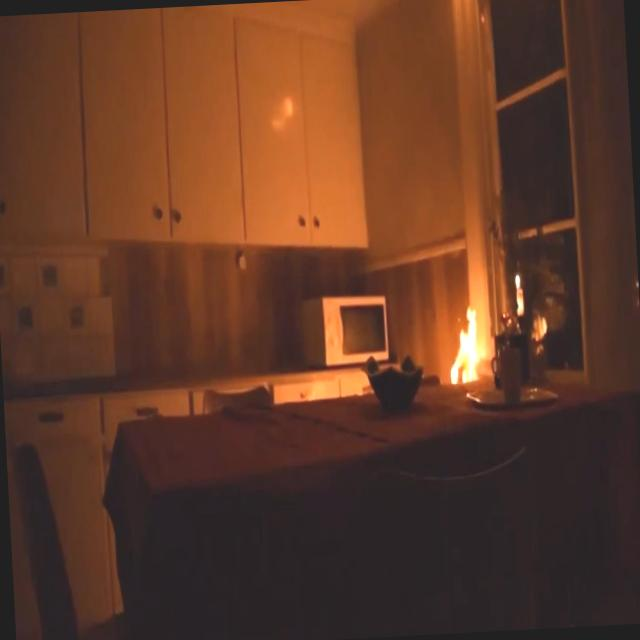fire: (440, 294, 499, 396)
